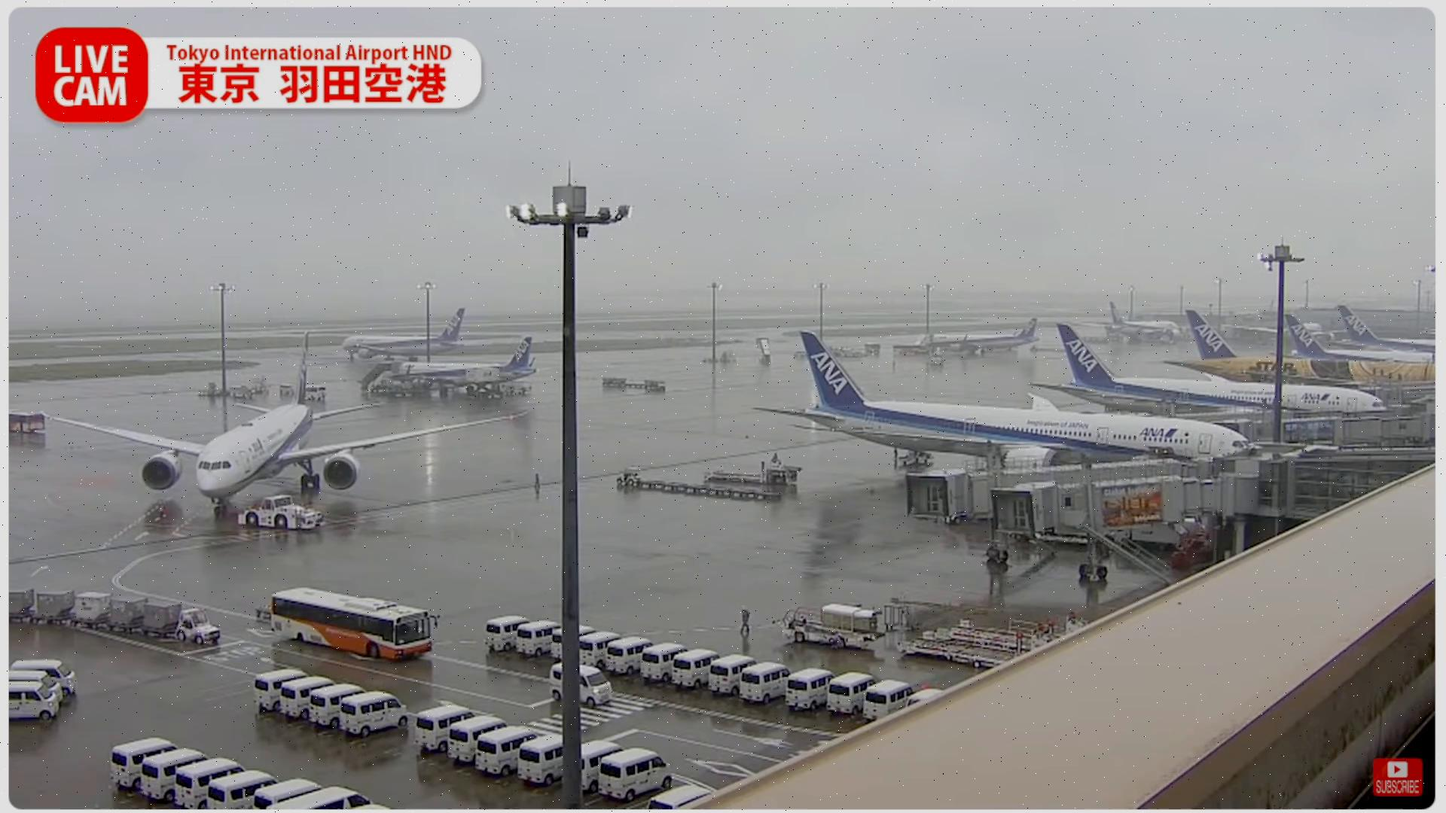APS: (238, 494, 323, 530)
Aerobridge: (904, 455, 1210, 522), (991, 474, 1261, 535)
Airplane: (39, 331, 534, 516)
JCPL: (924, 615, 1087, 656), (895, 630, 1024, 671)
Skyloader: (778, 603, 887, 649)
Window: (1292, 458, 1433, 516)
